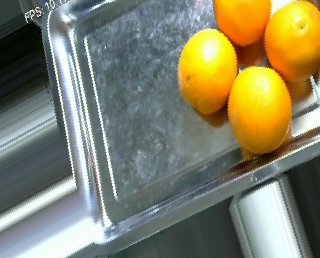Orange: (228, 67, 293, 154), (175, 29, 236, 115), (264, 1, 320, 82), (213, 0, 273, 46)
